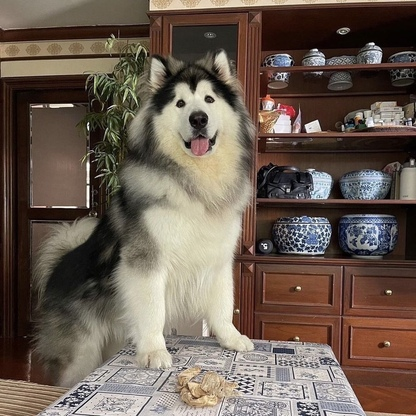husky: (28, 44, 265, 388)
